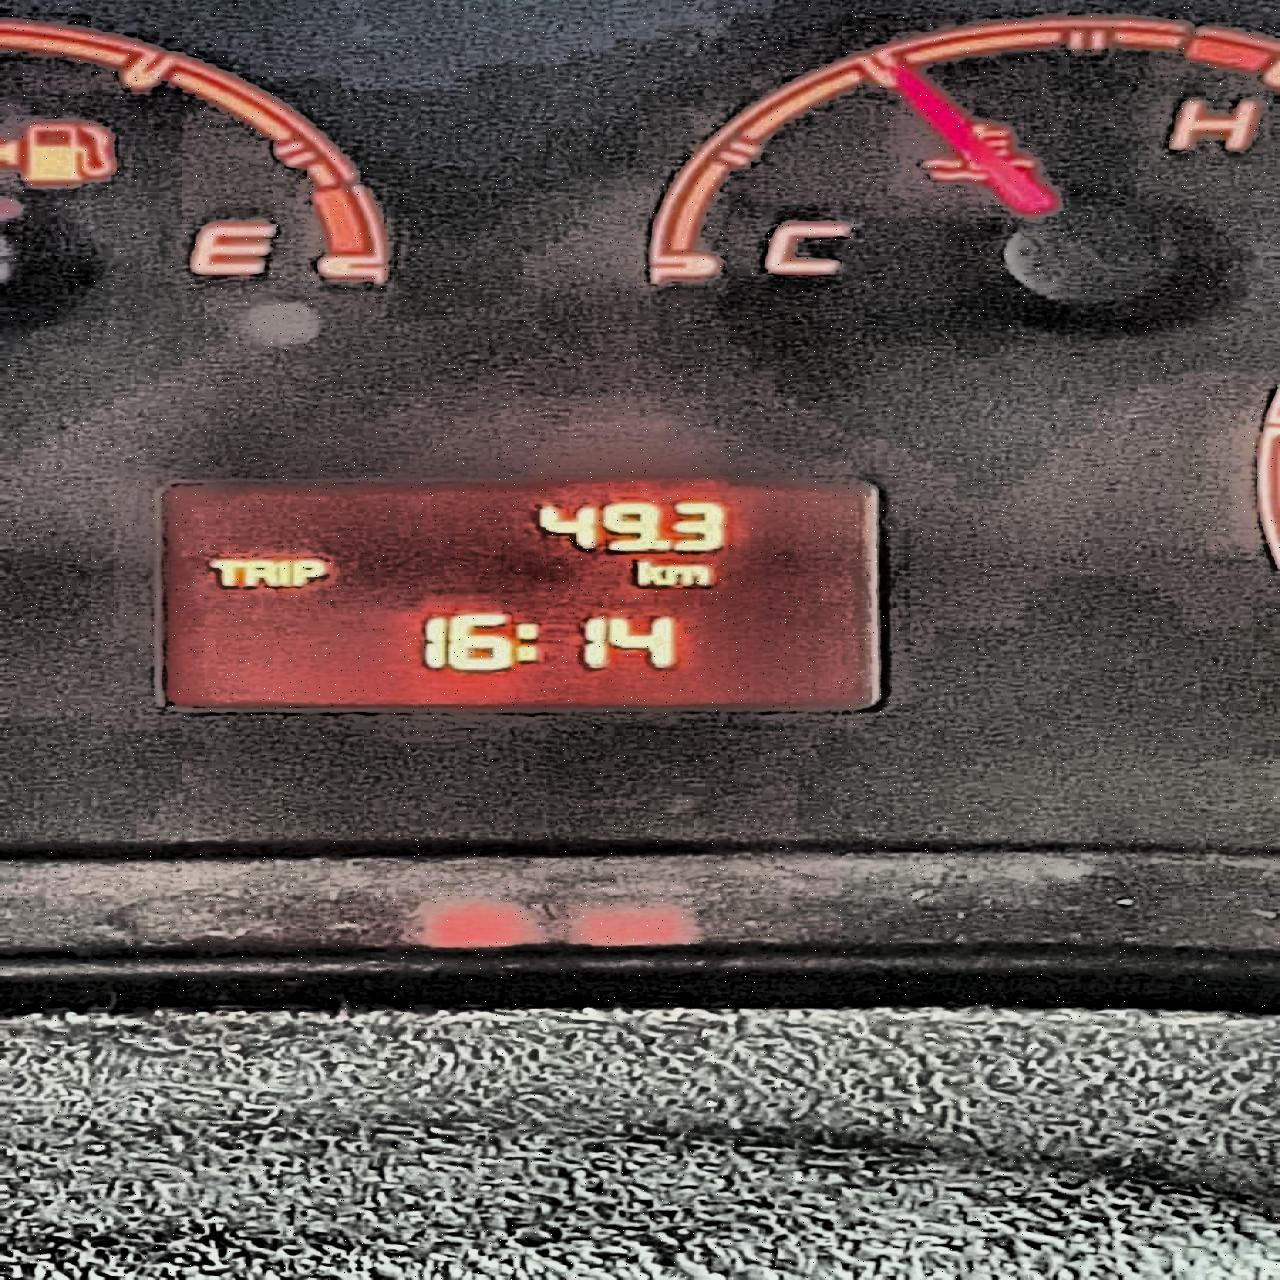-: (649, 538, 668, 551)
1: (580, 615, 608, 669), (420, 615, 447, 669)
3: (672, 501, 723, 552)
4: (606, 617, 680, 669), (535, 503, 599, 550)
6: (447, 612, 515, 670)
9: (600, 502, 659, 551)
X: (292, 558, 328, 588), (205, 558, 244, 586), (513, 622, 540, 662), (666, 564, 712, 586), (241, 558, 275, 587), (633, 559, 666, 586), (274, 558, 291, 587)
odometer: (142, 472, 894, 719)
